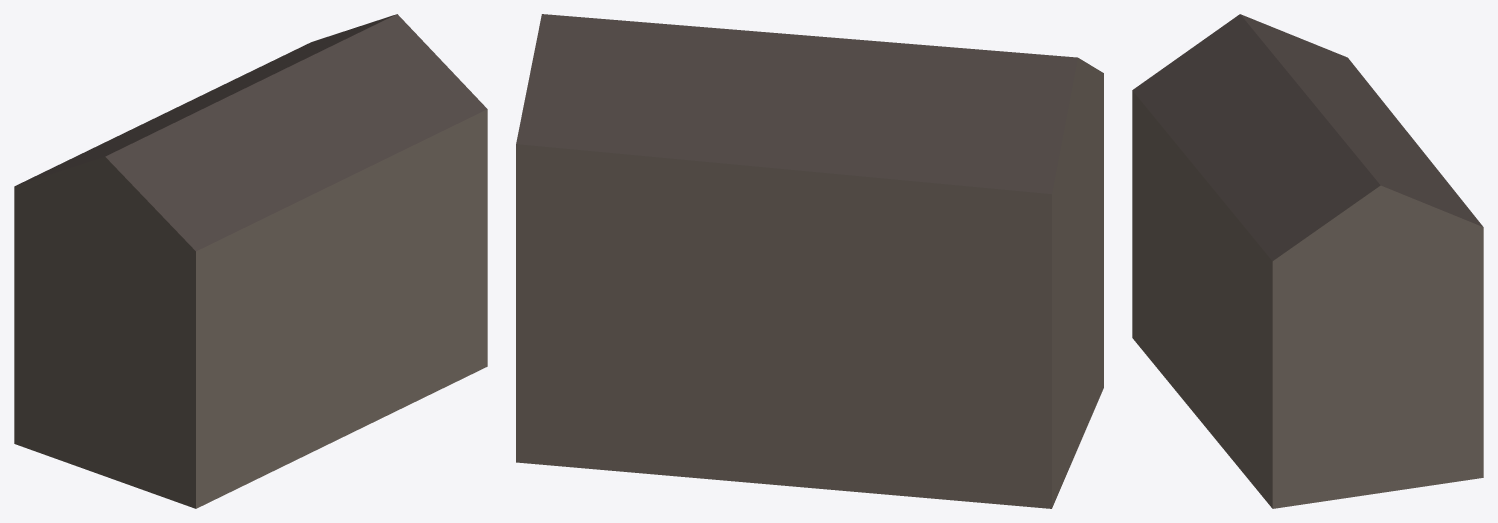
3 views of the same model, side by side, from view 1: azimuth 30°, elevation 25°; view 2: azimuth 150°, elevation 25°; view 3: azimuth 270°, elevation 25° (orthographic). The views are drawn at different scales.
Visible parts, largest first — view 1: HP-w1198645038; view 2: HP-w1198645038; view 3: HP-w1198645038.
Part boxes in pixels (<box>): HP-w1198645038: <box>14,14,487,508</box>; HP-w1198645038: <box>516,14,1103,508</box>; HP-w1198645038: <box>1132,14,1483,508</box>.
Size of the model in its own units: 10.59 by 7.45 by 7.72.
